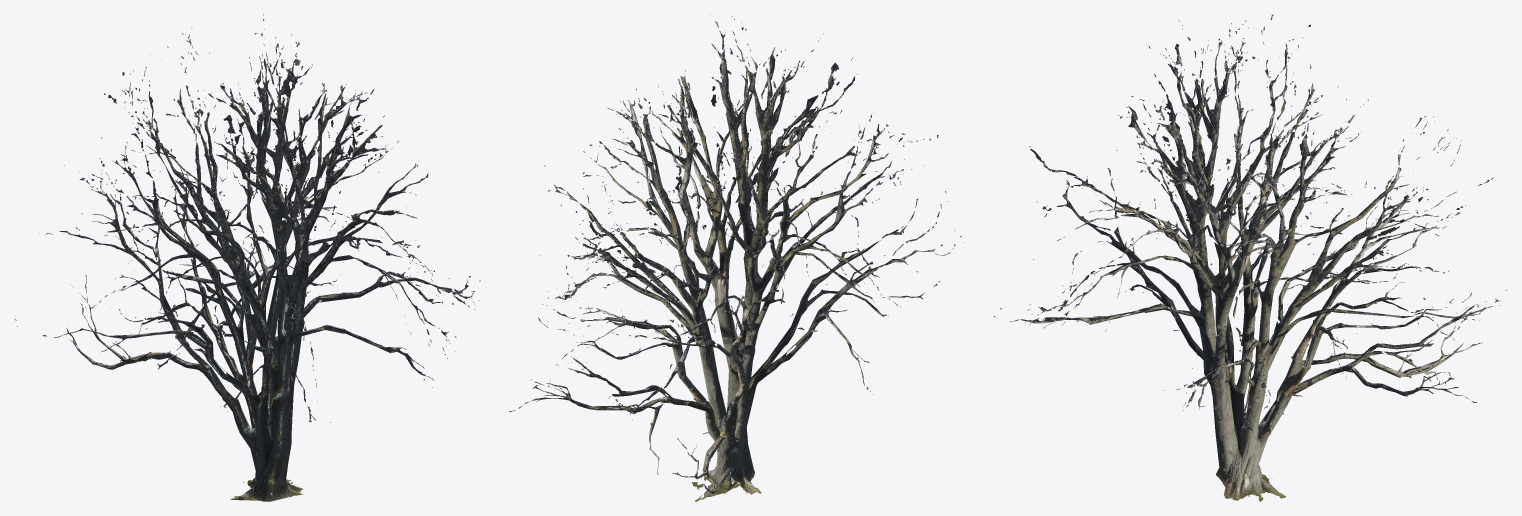
The model's file is tree.glb.
3 views of the same model, side by side, from view 1: azimuth 30°, elevation 25°; view 2: azimuth 150°, elevation 25°; view 3: azimuth 270°, elevation 25° (orthographic). The views are drawn at different scales.
Visible parts, largest first — view 1: Object_2, Object_3, Object_4; view 2: Object_2, Object_3, Object_4; view 3: Object_3, Object_2, Object_4.
Part boxes in pixels (x1,y1,x2,y2): Object_2: [101, 27, 480, 501]; Object_3: [14, 14, 456, 497]; Object_4: [66, 32, 428, 483]; Object_2: [509, 43, 837, 494]; Object_3: [680, 14, 963, 499]; Object_4: [640, 69, 723, 501]; Object_3: [993, 14, 1447, 500]; Object_2: [1059, 47, 1506, 498]; Object_4: [1134, 72, 1482, 501].
Size of the model in its own units: 2.59 by 3.1 by 3.08.
Materials: 1 (1 with a texture image).
